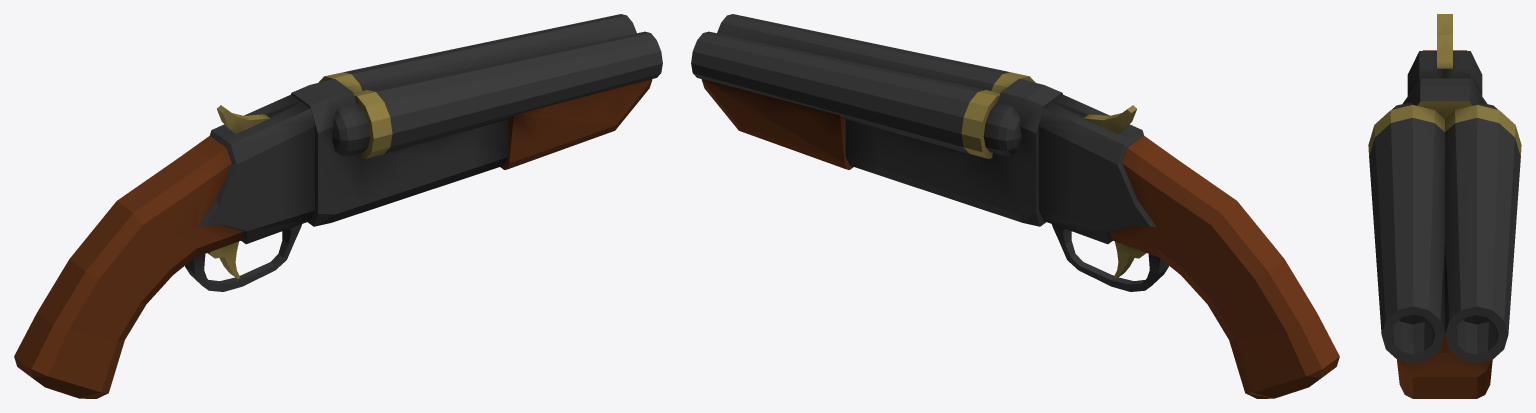
The model's file is v-hunter-shotgun-mini.glb.
3 views of the same model, side by side, from view 1: azimuth 30°, elevation 25°; view 2: azimuth 150°, elevation 25°; view 3: azimuth 270°, elevation 25° (orthographic). The views are drawn at different scales.
Parts seen in each view (by area): view 1: body (×3); view 2: body (×3); view 3: body (×3).
Boxes of the visible parts, box(x1,y1,x2,y2) form: body (×3): box(14, 14, 662, 398); body (×3): box(691, 14, 1339, 398); body (×3): box(1368, 14, 1521, 398).
Size of the model in its own units: 0.85 by 0.3339 by 0.1383.
